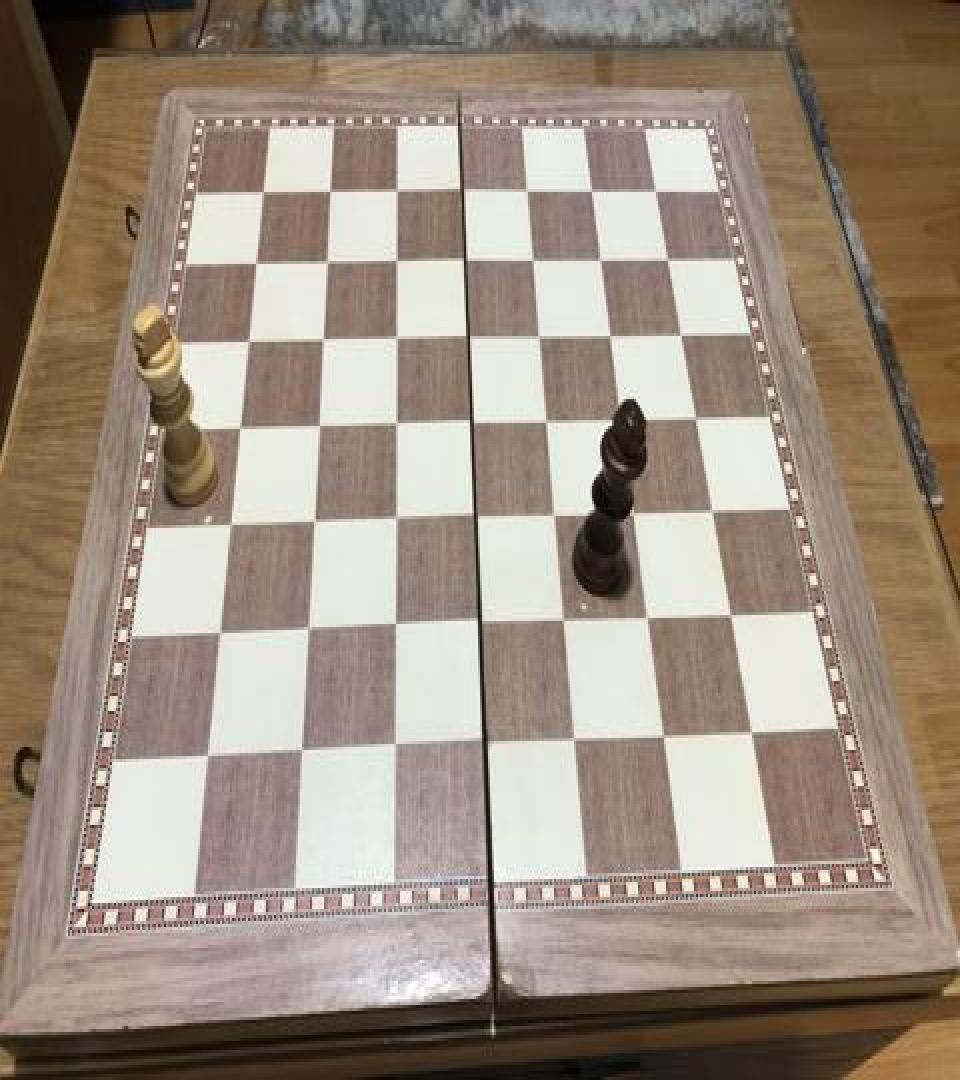xcorner: (469, 601, 493, 638), (384, 727, 408, 764), (641, 170, 665, 206), (578, 170, 602, 206), (515, 170, 539, 206), (450, 171, 474, 207), (385, 171, 409, 207), (654, 237, 678, 273), (588, 237, 612, 273), (521, 238, 545, 274), (453, 240, 477, 276), (385, 240, 409, 276), (316, 242, 340, 278), (246, 243, 270, 279), (667, 310, 691, 346), (598, 312, 622, 348), (528, 314, 552, 350), (457, 315, 481, 351), (385, 316, 409, 352), (312, 320, 336, 356), (238, 321, 262, 357), (682, 393, 706, 429), (609, 396, 633, 432), (535, 398, 559, 434), (460, 400, 484, 436), (385, 402, 409, 438), (308, 405, 332, 441), (230, 406, 254, 442), (699, 486, 723, 522), (622, 489, 646, 525), (544, 492, 568, 528), (465, 495, 489, 531), (384, 498, 408, 534), (303, 501, 327, 537), (220, 504, 244, 540), (718, 590, 742, 626), (637, 592, 661, 628), (554, 597, 578, 633), (384, 604, 408, 640), (297, 609, 321, 645), (209, 614, 233, 650), (740, 706, 764, 742), (653, 711, 677, 747), (565, 717, 589, 753), (475, 722, 499, 758), (291, 732, 315, 768), (197, 738, 221, 774), (319, 173, 343, 208), (253, 173, 277, 208)
